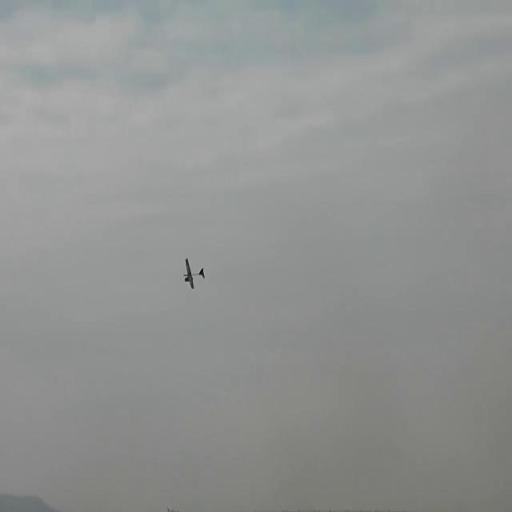uav: (184, 258, 206, 289)
